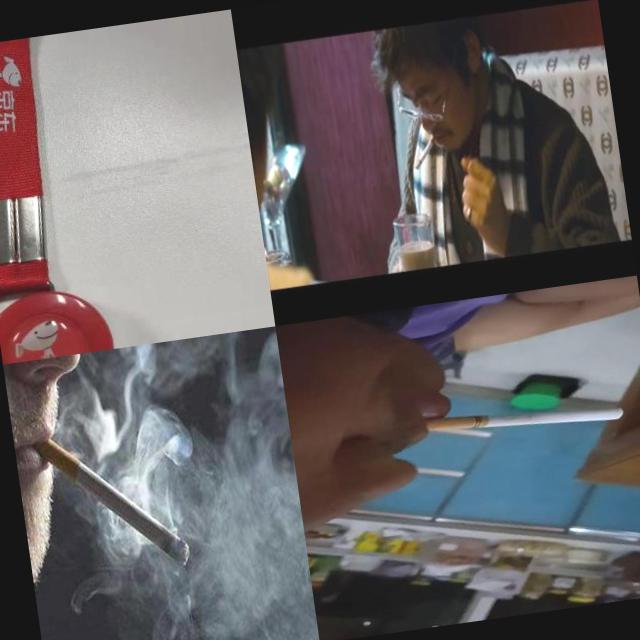smoke: (36, 417, 195, 588), (426, 393, 626, 446), (409, 132, 442, 172)
